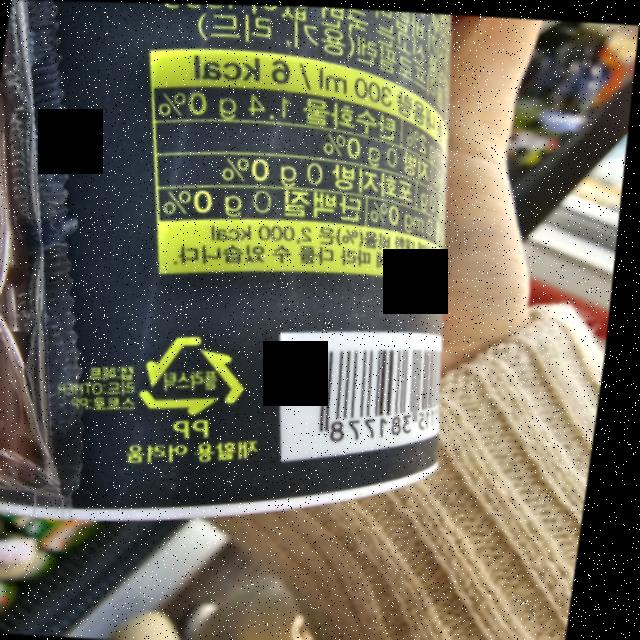Plastic: (143, 330, 265, 419)
